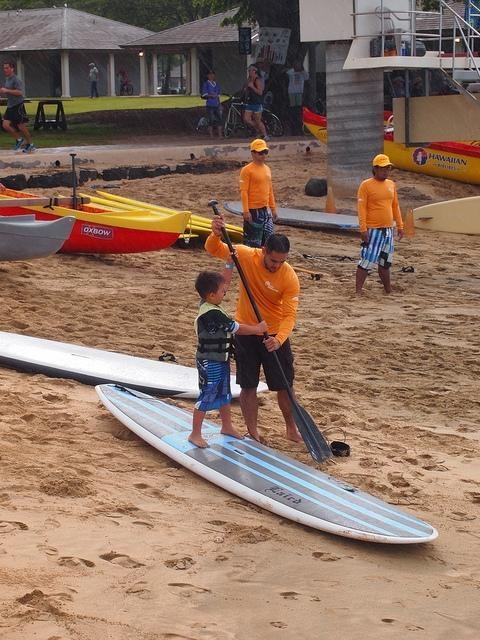bicycle: (222, 94, 284, 138)
